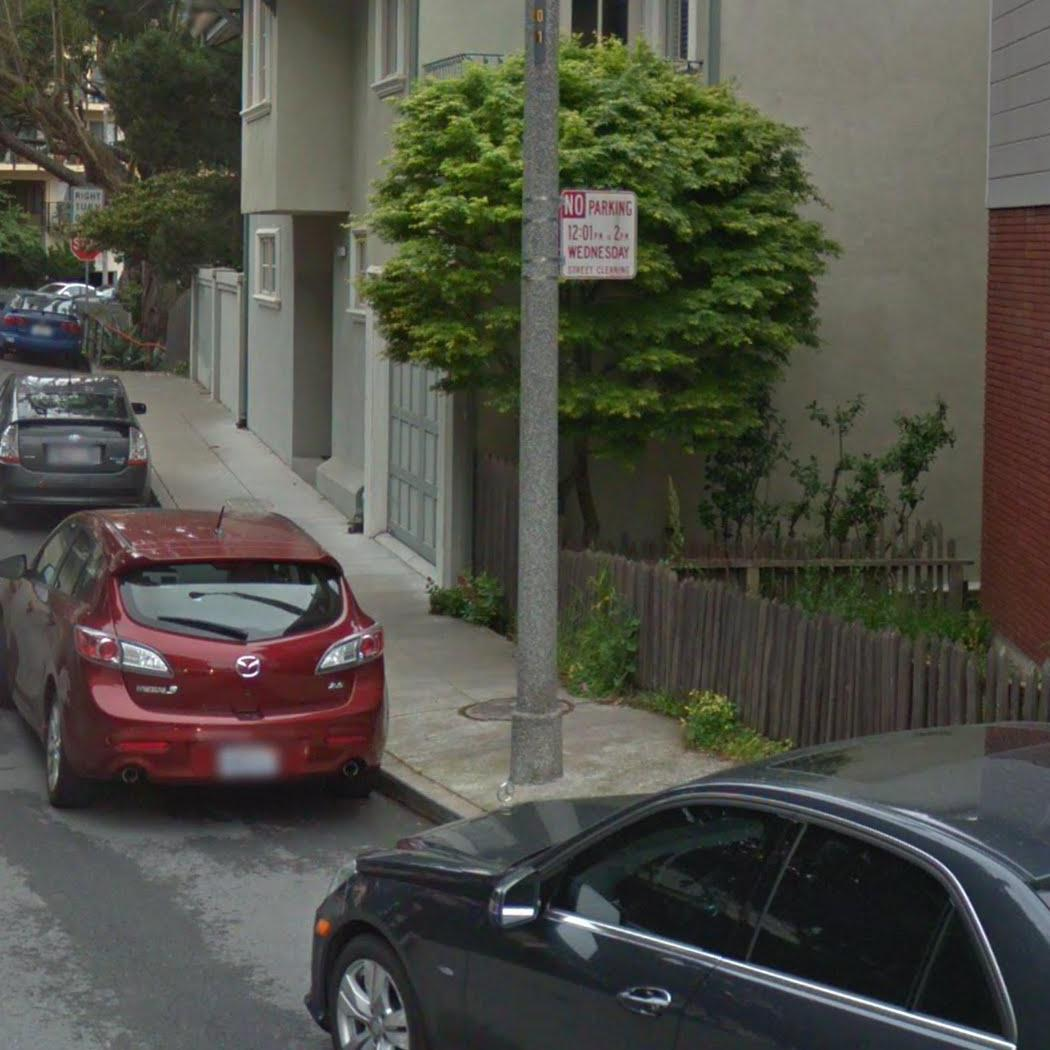No Parking: (555, 184, 642, 284)
